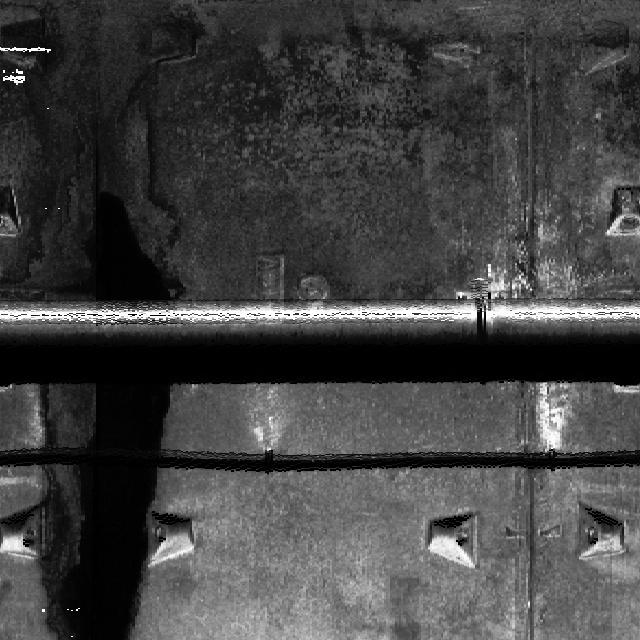leakage: (0, 3, 186, 633)
